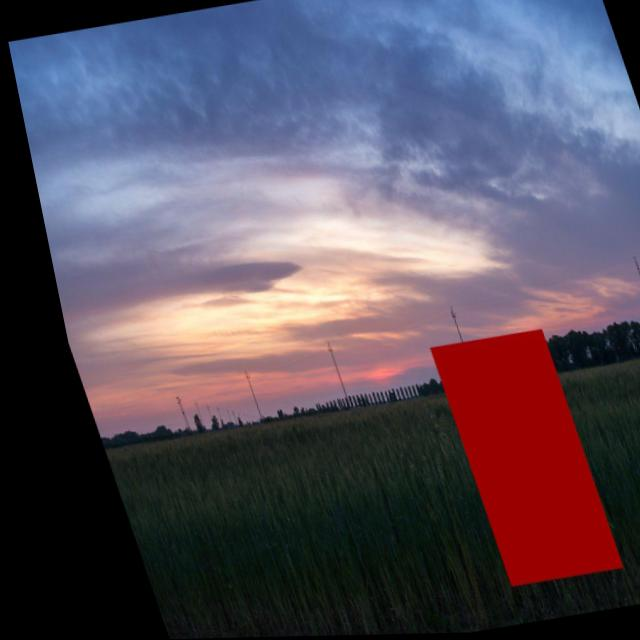RedSquare: (406, 322, 612, 595)
